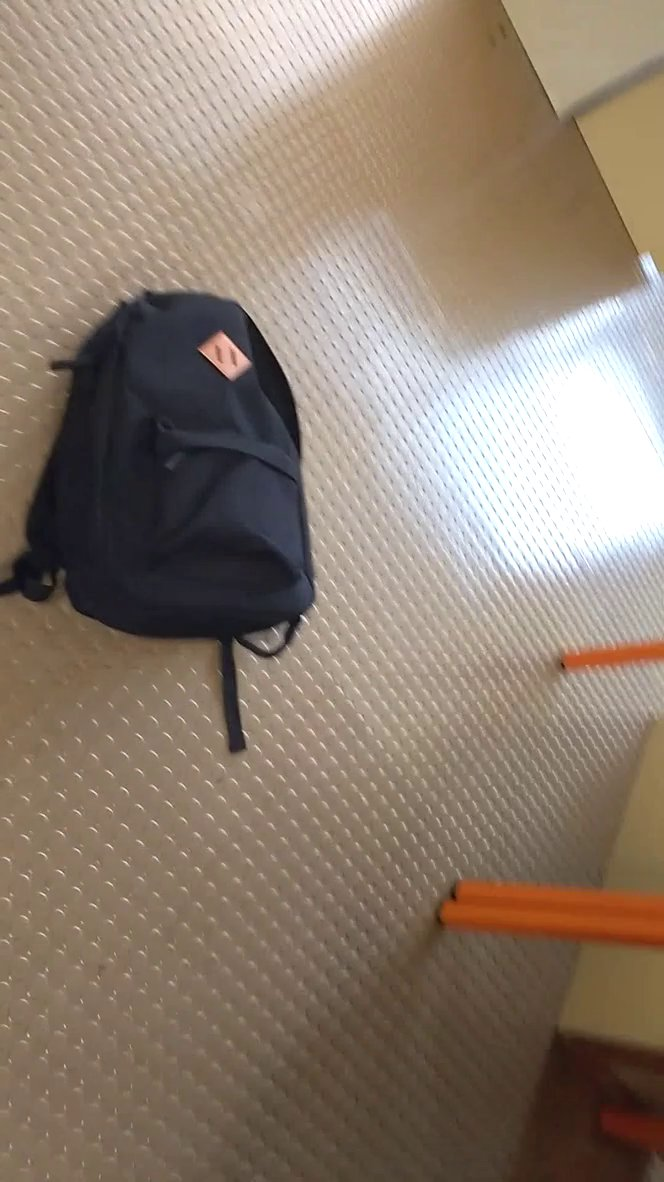bag: (2, 255, 352, 762)
